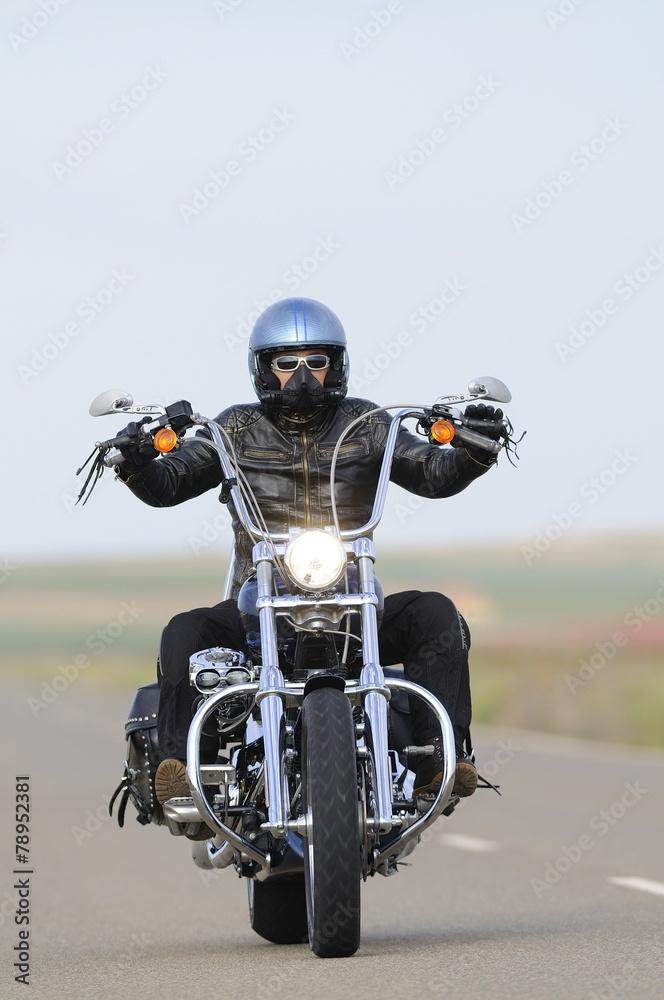helmet: (247, 296, 350, 417)
